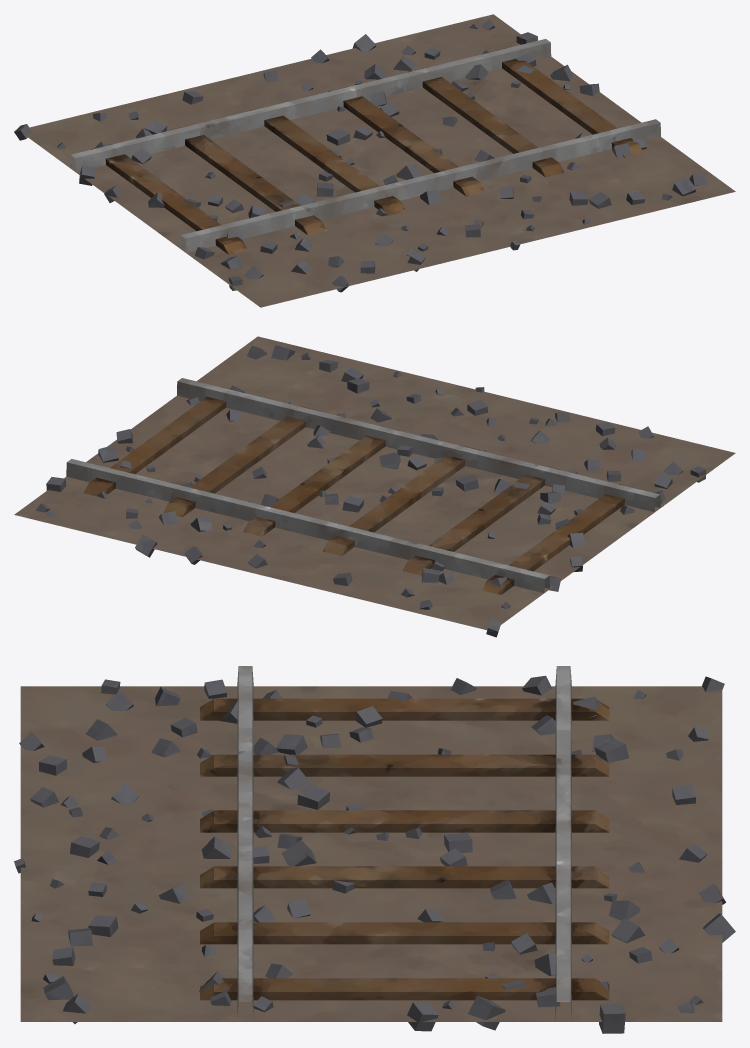
Rendered from RailsC.fbx.
The picture shows the model from 3 angles, top to bottom: view 1: azimuth 30°, elevation 25°; view 2: azimuth 150°, elevation 25°; view 3: azimuth 270°, elevation 25°; orthographic projection. The views are drawn at different scales.
Visible parts, largest first — view 1: RailsC; view 2: RailsC; view 3: RailsC.
Boxes of the visible parts, x1,y1,x2,y2 form: RailsC: (14, 14, 735, 307); RailsC: (14, 336, 735, 637); RailsC: (14, 666, 735, 1033).
Bounding box in the file's own units: 1018 × 52.69 × 909.
